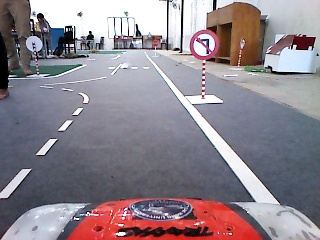ban: (187, 27, 221, 63)
